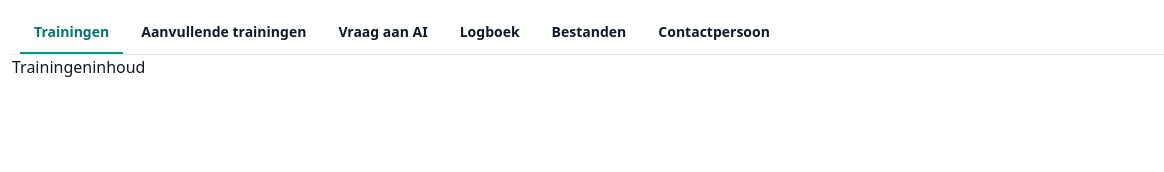
Scenario: SchooldetailTabs › klikken op een andere tab toont uitsluitend dat paneel
This screenshot has width=1164, height=172.
Click the tab "Logboek" at (490, 33), box top-left (446, 12), bottom-right (534, 54)
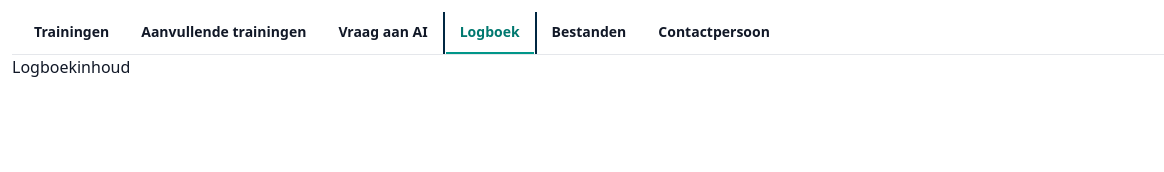
Expected: the text "Logboekinhoud" is shown, top-left (12, 56), bottom-right (130, 78)
Expected: the text with test id "paneel-trainingen" is gone
